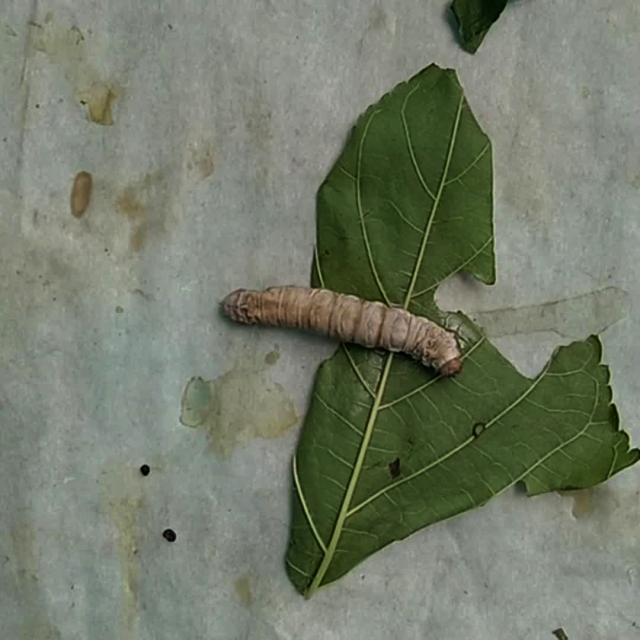Grasserie: (205, 246, 508, 434)
